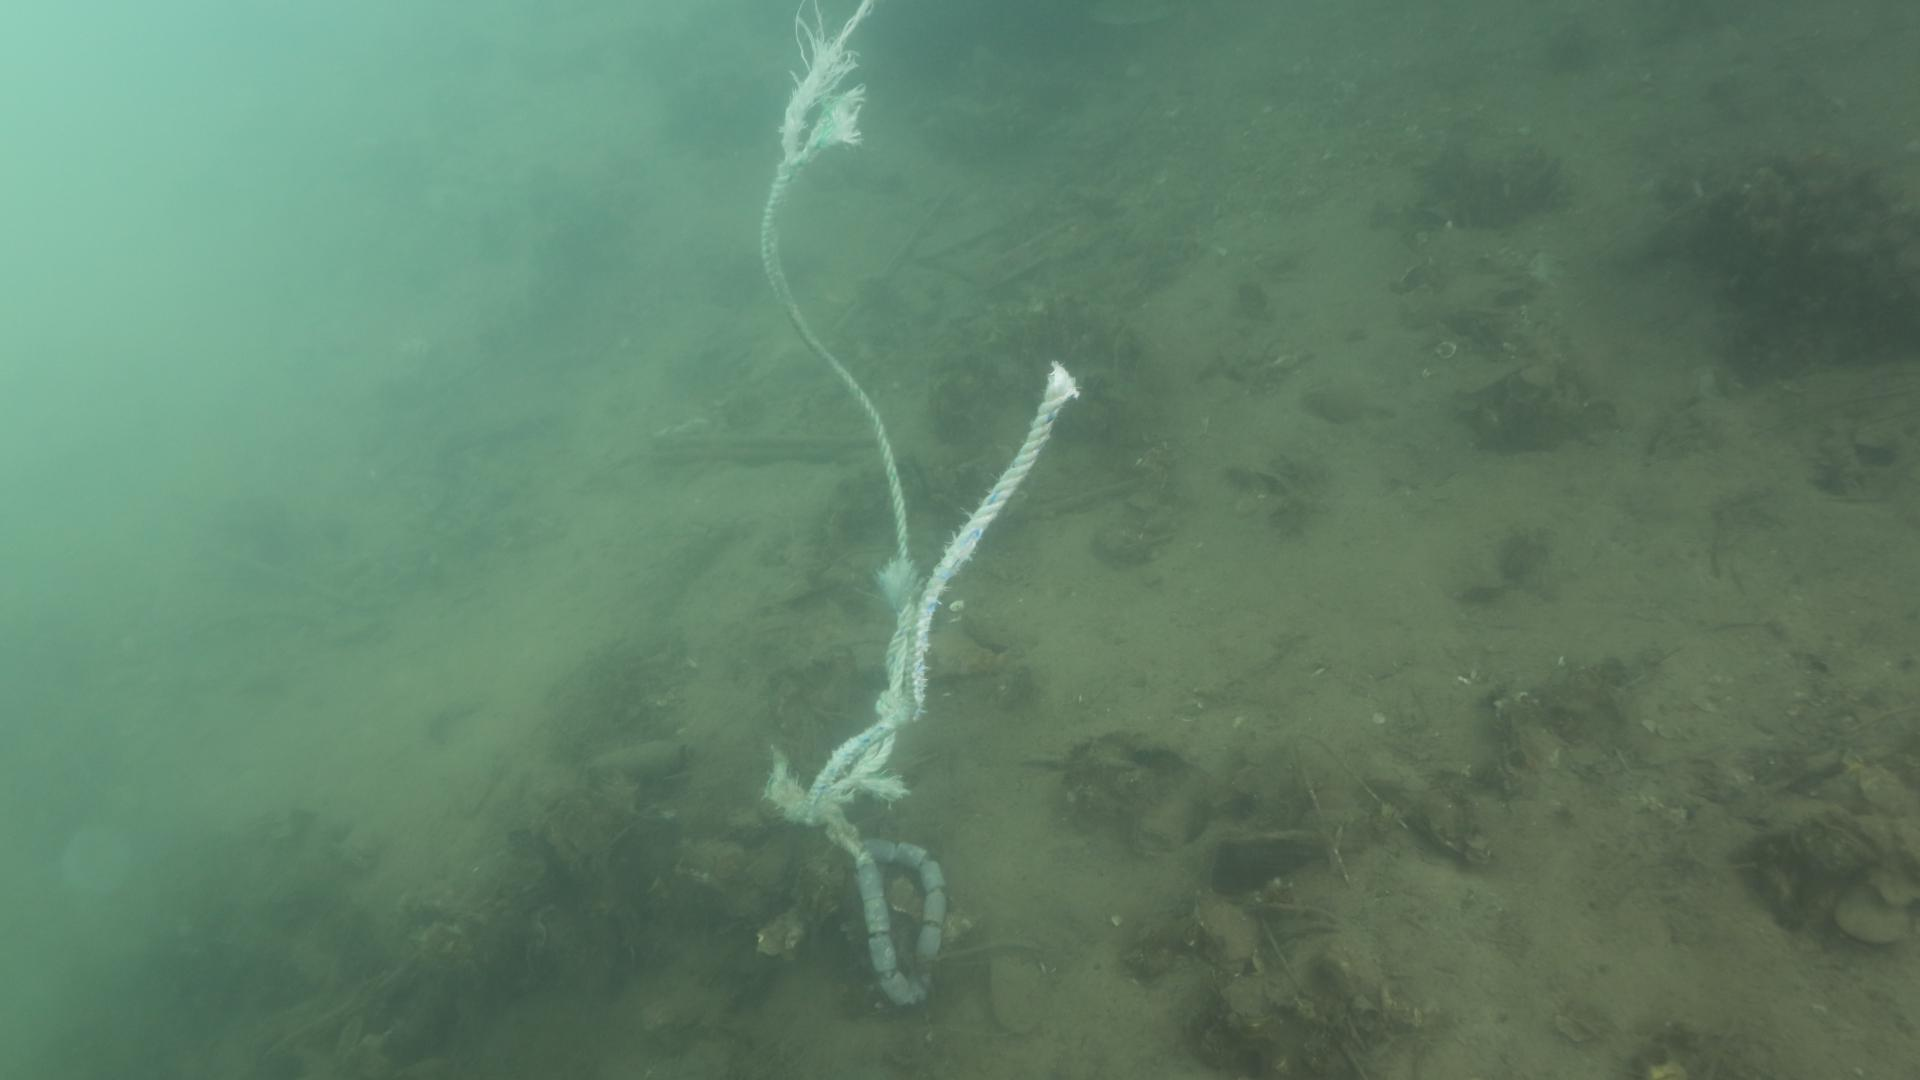bundle of ropes: (758, 160, 1079, 825)
